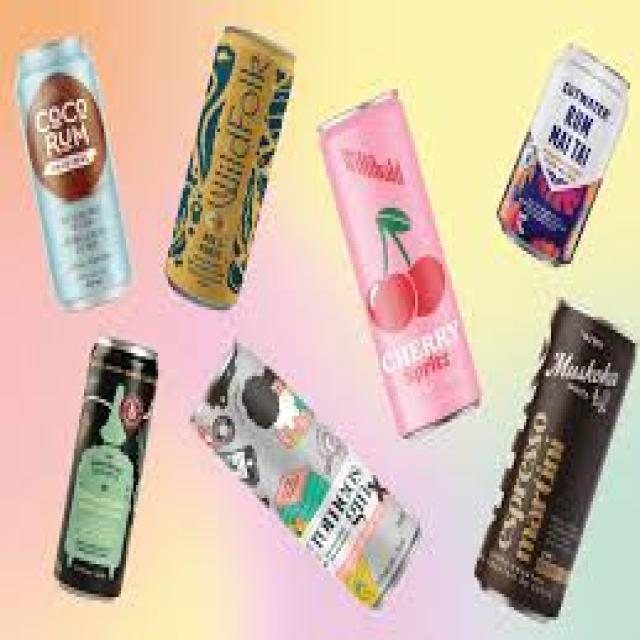Cans: (309, 69, 494, 439), (185, 330, 425, 614), (462, 294, 640, 624), (160, 17, 296, 314), (7, 27, 146, 314), (42, 330, 168, 610), (497, 33, 638, 274)
